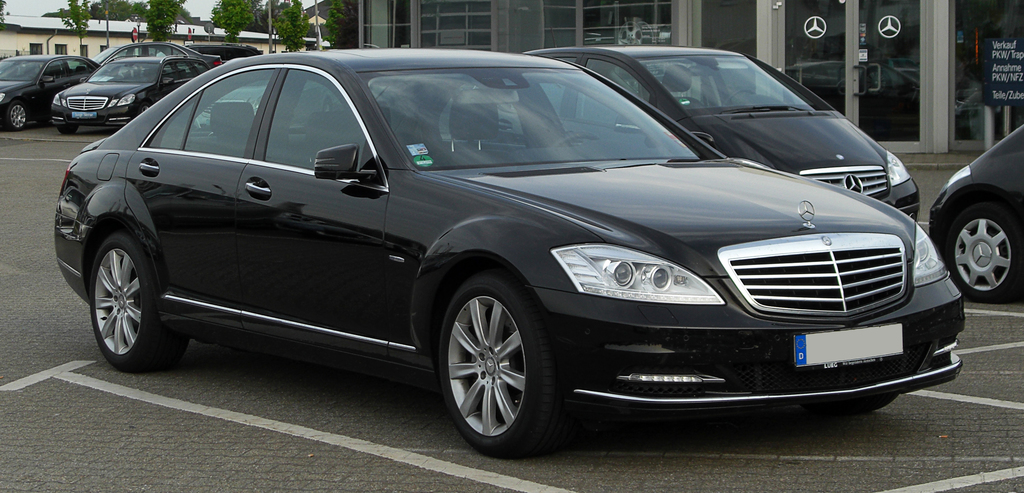Car: (51, 50, 955, 460), (535, 42, 915, 237), (922, 129, 1023, 307), (45, 36, 205, 128), (0, 54, 104, 133)
